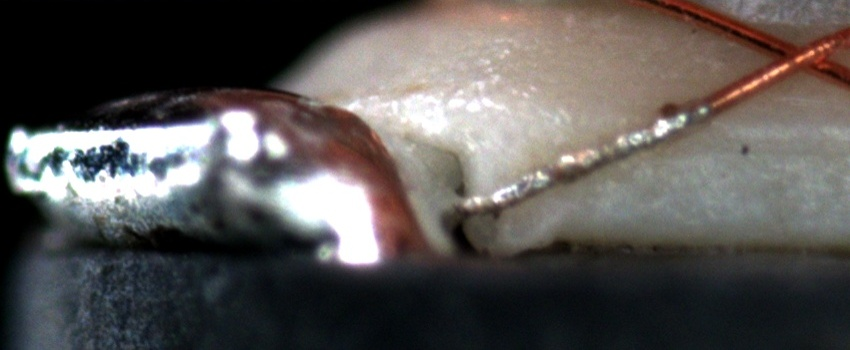CL: (749, 27, 840, 83)
DL: (642, 107, 850, 171)
TS: (456, 102, 712, 214)
TTCW: (448, 84, 740, 212)
